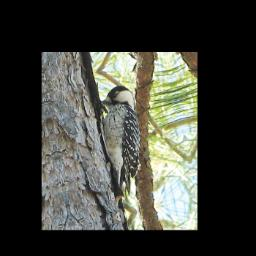Woodpecker: (92, 82, 155, 201)
